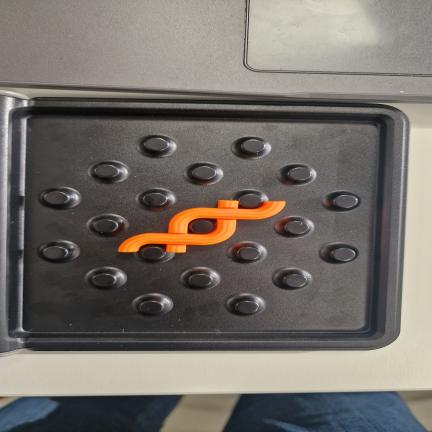I_Orange: (118, 201, 285, 252)
board: (2, 99, 409, 351)
hinge: (0, 96, 33, 353)
pin: (188, 219, 216, 234), (42, 245, 68, 260), (144, 137, 169, 152), (240, 139, 265, 154), (333, 194, 358, 209), (331, 247, 356, 262), (94, 164, 120, 178), (44, 191, 69, 205), (238, 194, 263, 208), (93, 219, 118, 233), (141, 246, 166, 260), (139, 300, 164, 314), (284, 273, 307, 288), (287, 167, 311, 181), (192, 166, 216, 180), (143, 192, 167, 206), (237, 247, 261, 261), (92, 273, 116, 287), (235, 300, 259, 314), (285, 221, 309, 234), (189, 274, 213, 287)
